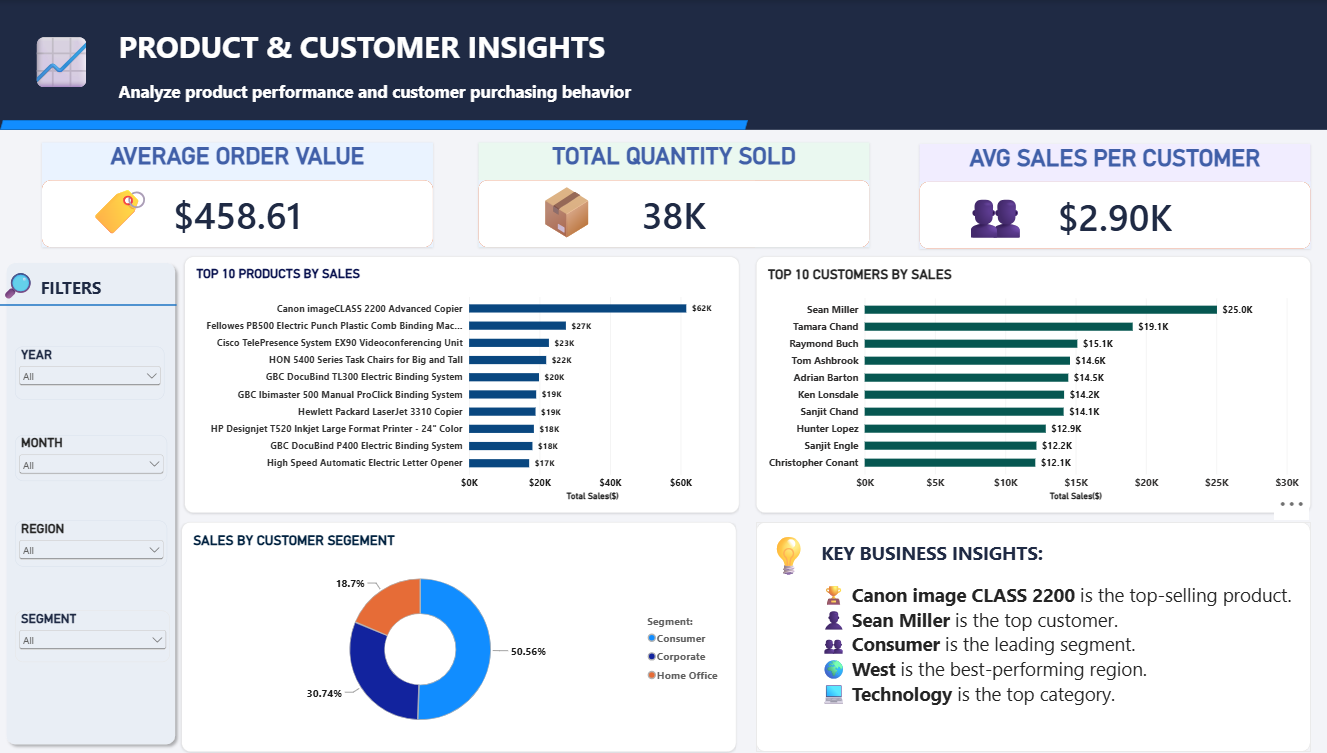

What the dashboard file says about the page in this screenshot:
{"tool":"powerbi","page":{"name":"Page 2","canvas":[1920,1080],"ordinal":1},"visuals":[{"type":"shape","box":[0,368,260,708],"z":0},{"type":"shape","box":[0,0,1920,186.1],"z":1000},{"type":"textbox","box":[170.1,113.4,790.9,39.7],"z":2000},{"type":"textbox","box":[170.1,36.9,901.4,85],"z":3000},{"type":"textbox","box":[39.7,36.9,107.7,116.2],"z":4000},{"type":"cardVisual","title":"AVERAGE ORDER VALUE","fields":{"Data":["Sales_Data.Average Order Value"]},"box":[59.5,204.1,560,150.2],"z":5000},{"type":"cardVisual","title":"TOTAL QUANTITY SOLD","fields":{"Data":["Sales_Data.Total Quantity Sold"]},"box":[686,204.1,560,150.2],"z":6000},{"type":"cardVisual","title":"AVG SALES PER CUSTOMER","fields":{"Data":["Sales_Data.Average Sales per Customer"]},"box":[1318.1,206.9,560,150.2],"z":7000},{"type":"textbox","box":[762.5,252.3,136.1,124.7],"z":8000},{"type":"textbox","box":[121.9,252.3,150,150],"z":9000},{"type":"textbox","box":[1377.6,252.3,150,150],"z":10000},{"type":"shape","box":[0,172.9,1071.5,14.2],"z":11000},{"type":"clusteredBarChart","title":"TOP 10 PRODUCTS BY SALES","fields":{"Category":["Sales_Data.Product Name"],"Y":["Sales_Data.Total Sales"]},"box":[264.8,367.4,794.5,367.4],"z":12000},{"type":"clusteredBarChart","title":"TOP 10 CUSTOMERS BY SALES","fields":{"Category":["Sales_Data.Customer Name"],"Y":["Sales_Data.Total Sales"]},"box":[1082.9,367.4,794.5,367.4],"z":13000},{"type":"donutChart","title":"SALES BY CUSTOMER SEGEMENT","fields":{"Category":["Sales_Data.Segment"],"Y":["Sales_Data.Total Sales"]},"box":[260.1,746.8,794.5,329.3],"z":14000},{"type":"shape","box":[1083.2,746.8,794.5,329.3],"z":15000},{"type":"textbox","box":[1168.8,773.5,336.4,45.3],"z":16000},{"type":"textbox","box":[1091.5,756.3,68.8,77.3],"z":17000},{"type":"textbox","box":[1168.8,833.7,708.6,226.7],"z":18000},{"type":"textbox","box":[52,396,208,120],"z":19000},{"type":"textbox","box":[0,381.7,59.6,54.9],"z":20000},{"type":"slicer","fields":{"Values":["Sales_Data.Year"]},"box":[22,496,214,76],"z":21000},{"type":"slicer","fields":{"Values":["Sales_Data.Month"]},"box":[22,624,218,66],"z":22000},{"type":"slicer","fields":{"Values":["Sales_Data.Region"]},"box":[22,746,218,66],"z":23000},{"type":"slicer","fields":{"Values":["Sales_Data.Segment"]},"box":[22,874,222,74],"z":24000},{"type":"shape","box":[0,429.5,252.9,14.3],"z":25000}]}

Visuals, with their boxes in screenshot pixels (x1, y1, x2, y2), scaled from the page's 1920x1080 canvas onto the 1327x753 screenshot:
shape: [0, 257, 180, 750]
shape: [0, 0, 1326, 130]
textbox: [118, 79, 664, 107]
textbox: [118, 26, 741, 85]
textbox: [27, 26, 102, 107]
"AVERAGE ORDER VALUE" cardVisual: [41, 142, 428, 247]
"TOTAL QUANTITY SOLD" cardVisual: [474, 142, 861, 247]
"AVG SALES PER CUSTOMER" cardVisual: [911, 144, 1298, 249]
textbox: [527, 176, 621, 263]
textbox: [84, 176, 188, 280]
textbox: [952, 176, 1056, 280]
shape: [0, 121, 741, 130]
"TOP 10 PRODUCTS BY SALES" clusteredBarChart: [183, 256, 732, 512]
"TOP 10 CUSTOMERS BY SALES" clusteredBarChart: [748, 256, 1298, 512]
"SALES BY CUSTOMER SEGEMENT" donutChart: [180, 521, 729, 750]
shape: [749, 521, 1298, 750]
textbox: [808, 539, 1040, 571]
textbox: [754, 527, 802, 581]
textbox: [808, 581, 1298, 739]
textbox: [36, 276, 180, 360]
textbox: [0, 266, 41, 304]
slicer - Sales_Data.Year: [15, 346, 163, 399]
slicer - Sales_Data.Month: [15, 435, 166, 481]
slicer - Sales_Data.Region: [15, 520, 166, 566]
slicer - Sales_Data.Segment: [15, 609, 169, 661]
shape: [0, 299, 175, 309]
